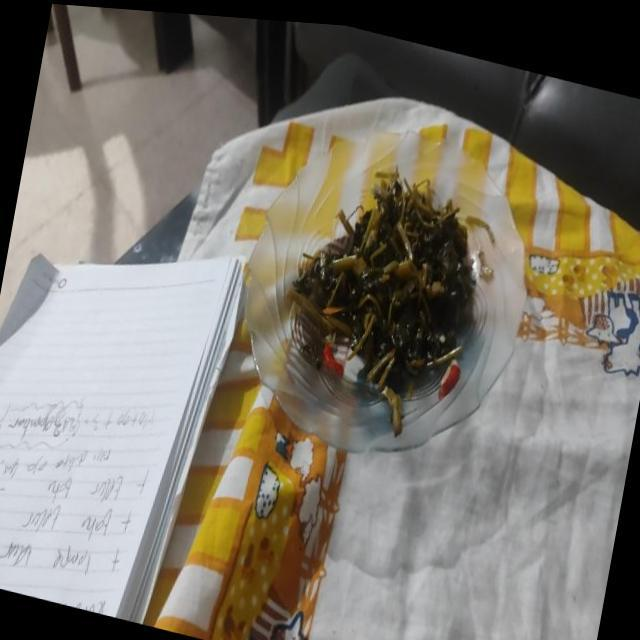tumis_kangkung: (294, 168, 476, 418)
